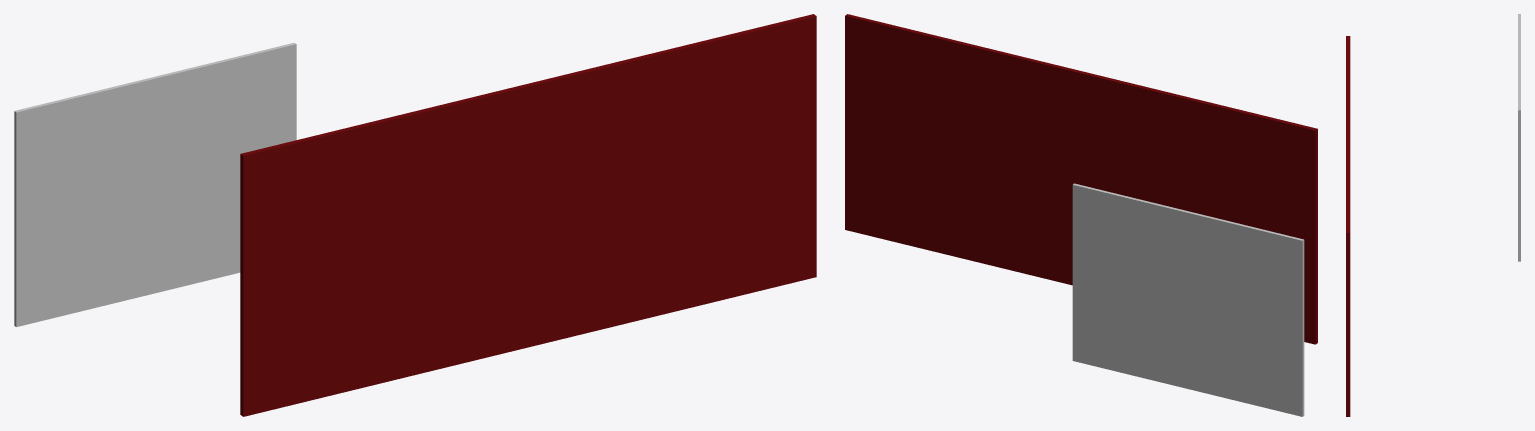
File: whitePellet.obj
The picture shows the model from 3 angles, left to right: view 1: azimuth 30°, elevation 25°; view 2: azimuth 150°, elevation 25°; view 3: azimuth 270°, elevation 25°; orthographic projection. The views are drawn at different scales.
Parts seen in each view (by area): view 1: Cube, Cube.001; view 2: Cube, Cube.001; view 3: Cube, Cube.001.
Part boxes in pixels (<box>): Cube: <box>240,14,816,416</box>; Cube.001: <box>14,42,296,326</box>; Cube: <box>845,14,1317,344</box>; Cube.001: <box>1072,183,1304,416</box>; Cube: <box>1346,36,1350,416</box>; Cube.001: <box>1518,14,1520,261</box>.
Size of the model in its own units: 21.93 by 8.06 by 6.94.
